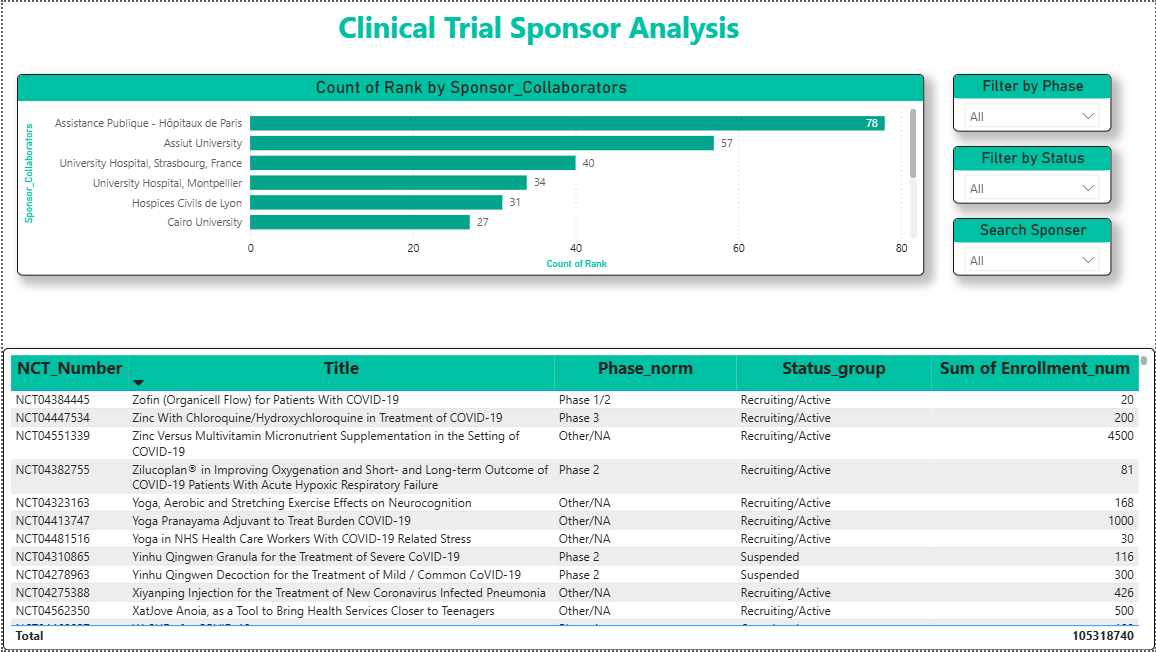

What the dashboard file says about the page in this screenshot:
{"tool":"powerbi","page":{"name":"Sponsor Insights","canvas":[1280,720],"ordinal":3},"visuals":[{"type":"textbox","box":[368,0,464,80],"z":0},{"type":"clusteredBarChart","fields":{"Category":["v_covid_clinical_trials.Sponsor_Collaborators"],"Y":["CountNonNull(v_covid_clinical_trials.Rank)"]},"box":[16,80,1008,224],"z":1000},{"type":"tableEx","fields":{"Values":["v_covid_clinical_trials.NCT_Number","v_covid_clinical_trials.Title","v_covid_clinical_trials.Phase_norm","v_covid_clinical_trials.Status_group","Sum(v_covid_clinical_trials.Enrollment_num)"]},"box":[0,384,1280,336],"z":2000},{"type":"slicer","title":"Filter by Phase","fields":{"Values":["v_covid_clinical_trials.Phase_norm"]},"box":[1056,80,176,64],"z":2001},{"type":"slicer","title":"Filter by Status","fields":{"Values":["v_covid_clinical_trials.Status_group"]},"box":[1056,160,176,64],"z":2002},{"type":"slicer","title":"Search Sponser","fields":{"Values":["v_covid_clinical_trials.Sponsor_Collaborators"]},"box":[1056,240,176,64],"z":2003}]}

Visuals, with their boxes in screenshot pixels (x1, y1, x2, y2), scaled from the page's 1280x720 canvas onto the 1156x652 screenshot:
textbox: (left=332, top=0, right=751, bottom=72)
clusteredBarChart - v_covid_clinical_trials.Sponsor_Collaborators x CountNonNull(v_covid_clinical_trials.Rank): (left=14, top=72, right=925, bottom=275)
tableEx - v_covid_clinical_trials.NCT_Number x v_covid_clinical_trials.Title: (left=0, top=348, right=1155, bottom=651)
"Filter by Phase" slicer: (left=954, top=72, right=1113, bottom=130)
"Filter by Status" slicer: (left=954, top=145, right=1113, bottom=203)
"Search Sponser" slicer: (left=954, top=217, right=1113, bottom=275)
